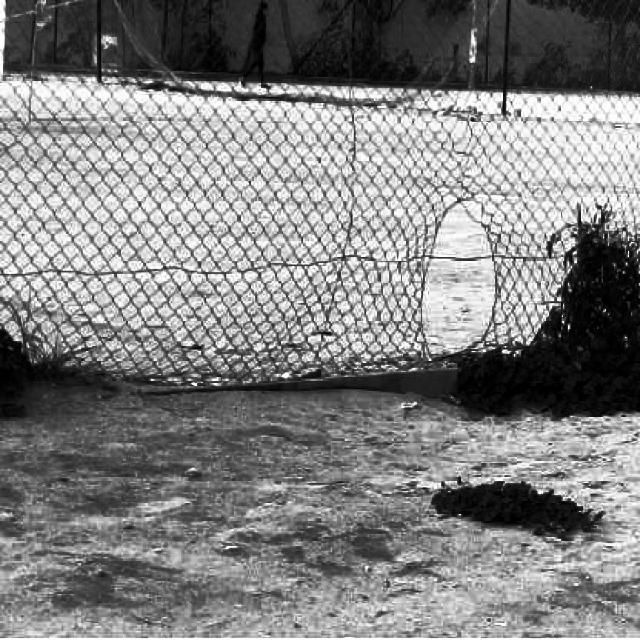anomaly-fence: (404, 162, 534, 374)
